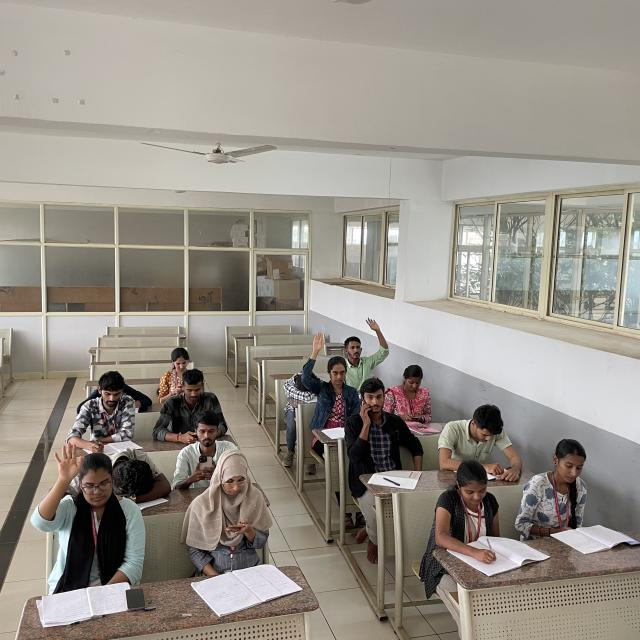Hand Rising: (38, 447, 137, 580), (304, 332, 356, 430), (344, 317, 388, 383)
Reading: (527, 433, 628, 550), (438, 404, 521, 484)
Sleeping: (107, 449, 171, 501), (282, 370, 322, 401)
Using Phone: (191, 450, 271, 550), (151, 368, 227, 441), (344, 377, 402, 463), (175, 418, 236, 492), (385, 365, 435, 422), (154, 349, 201, 403)
Writing: (433, 459, 513, 568), (65, 370, 140, 454)
